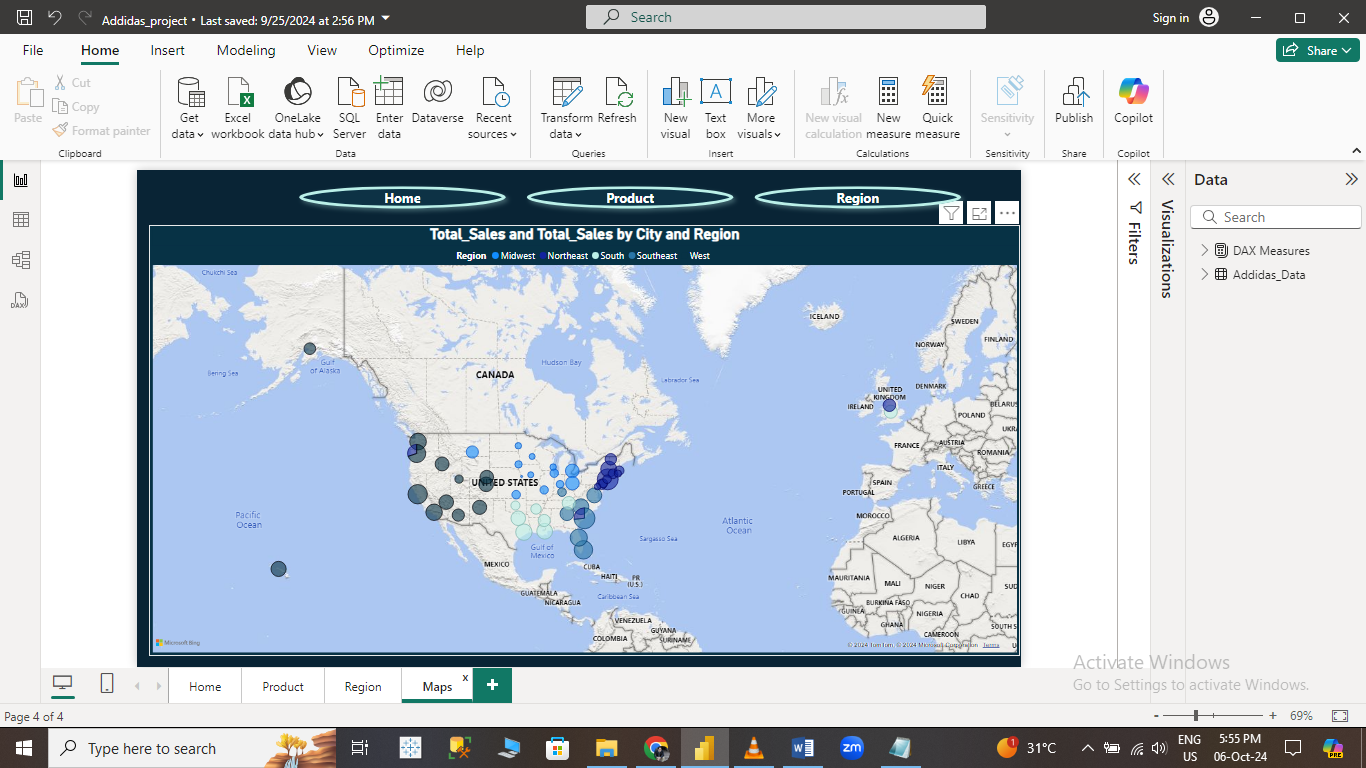

The page's visual inventory and layout, read from the dashboard file:
{"tool":"powerbi","page":{"name":"Maps","canvas":[1280,720],"ordinal":3},"visuals":[{"type":"map","fields":{"Size":["DAX Measures.Total_Sales"],"Category":["Addidas_Data.City"],"Series":["Addidas_Data.Region"]},"box":[17,79.4,1262.8,625],"z":1},{"type":"pageNavigator","box":[225.4,12.8,980.8,53.9],"z":2}]}

Visuals, with their boxes on the page's 1280x720 design canvas (x1, y1, x2, y2). These are canvas units, not pixel positions in the 1366x768 screenshot, which may show the page scaled, cropped or inside an application window:
map - DAX Measures.Total_Sales x Addidas_Data.City: select_region(17, 79, 1280, 704)
pageNavigator: select_region(225, 13, 1206, 67)
